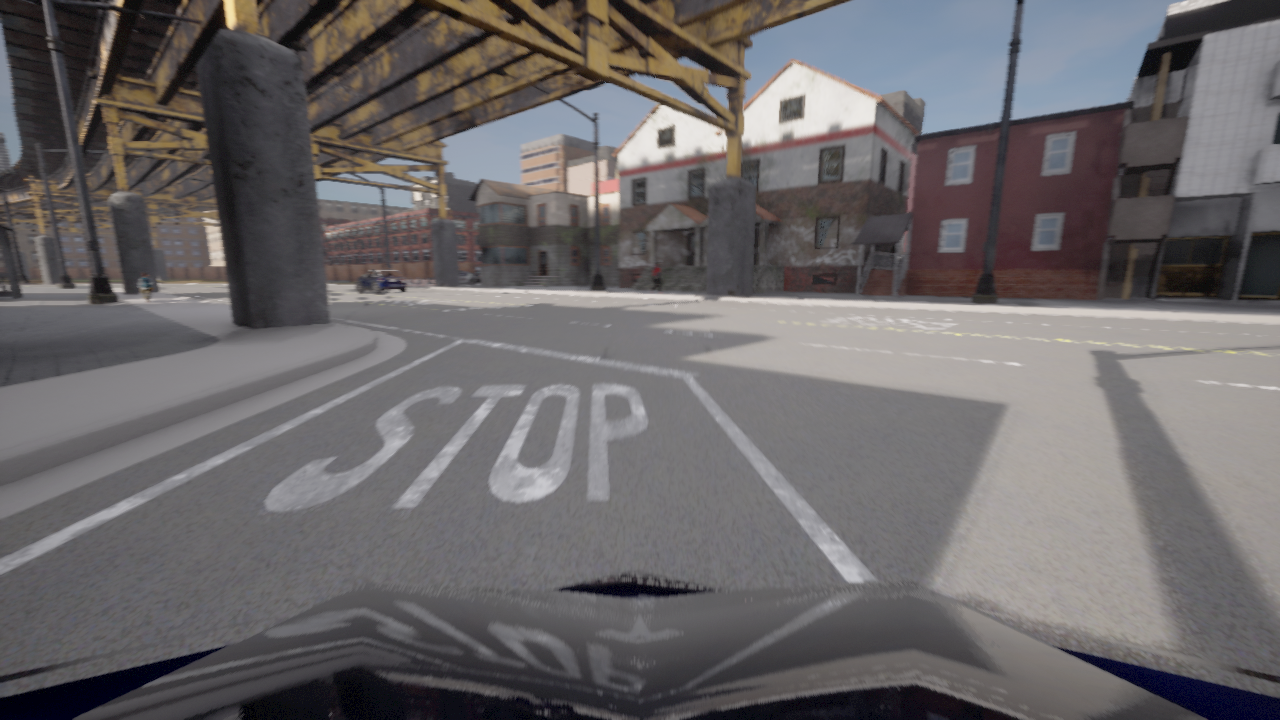cyclist: (0, 569, 1279, 719), (356, 270, 407, 293), (429, 270, 480, 284)
pedestrian: (140, 272, 153, 302), (651, 261, 662, 293)
